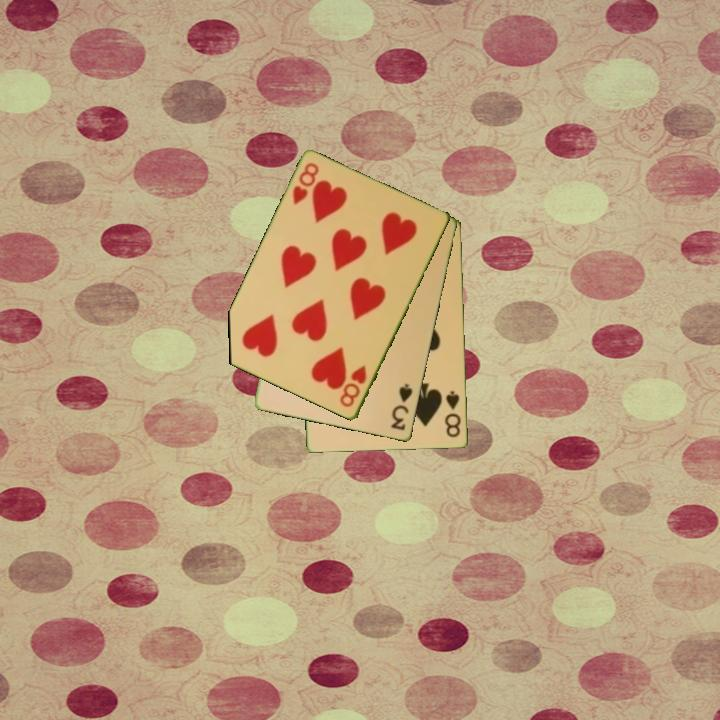3s: (388, 380, 416, 434)
8h: (336, 361, 370, 411), (289, 159, 322, 208)
8s: (441, 388, 464, 441)
